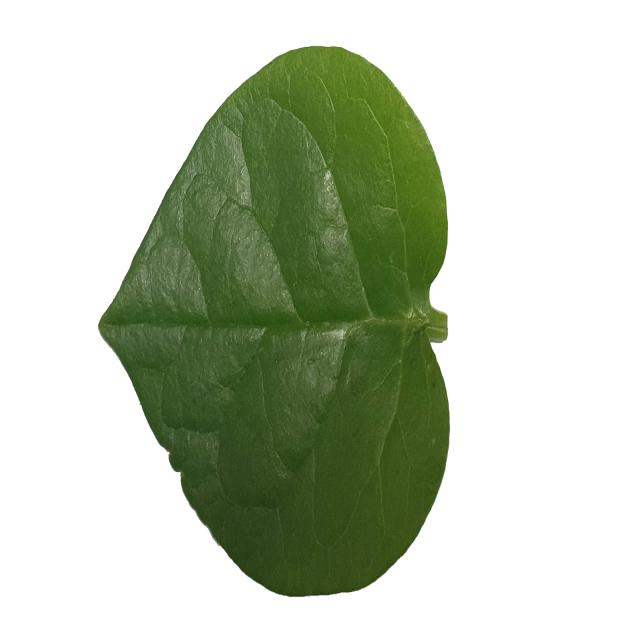Medicinal-Basale: (99, 46, 454, 598)
